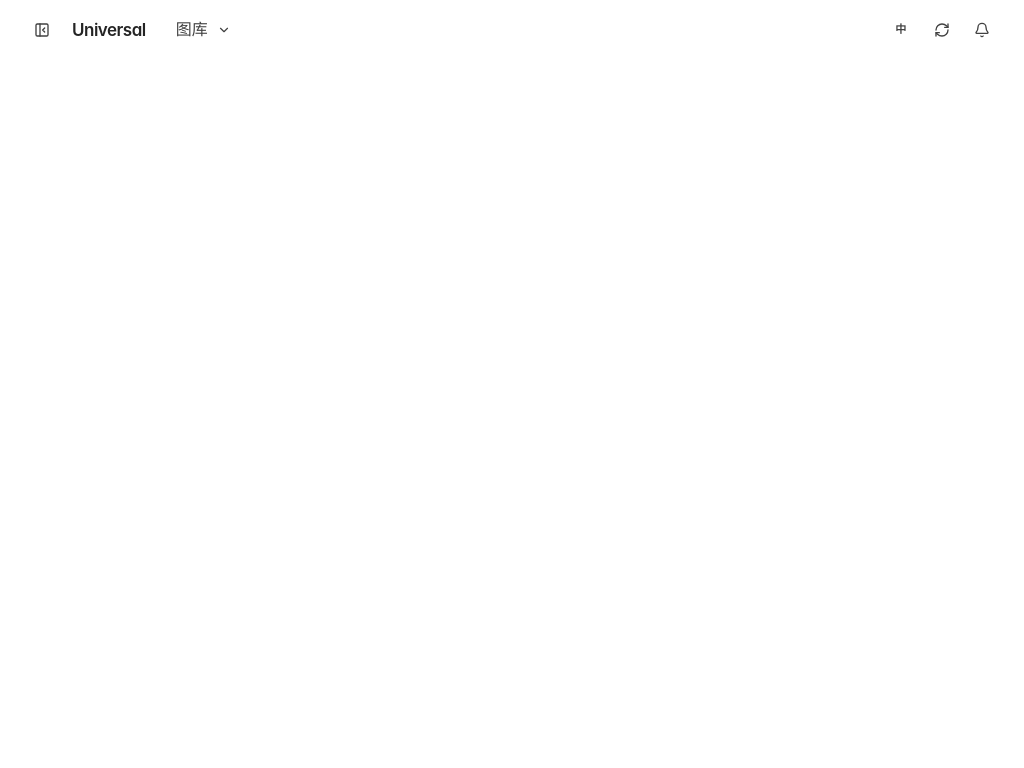
Scenario: TopNavigation › keeps the update popover open when the bell is clicked
Step 1. Click the button named "更新" → (982, 30), box [964,12,1000,48]
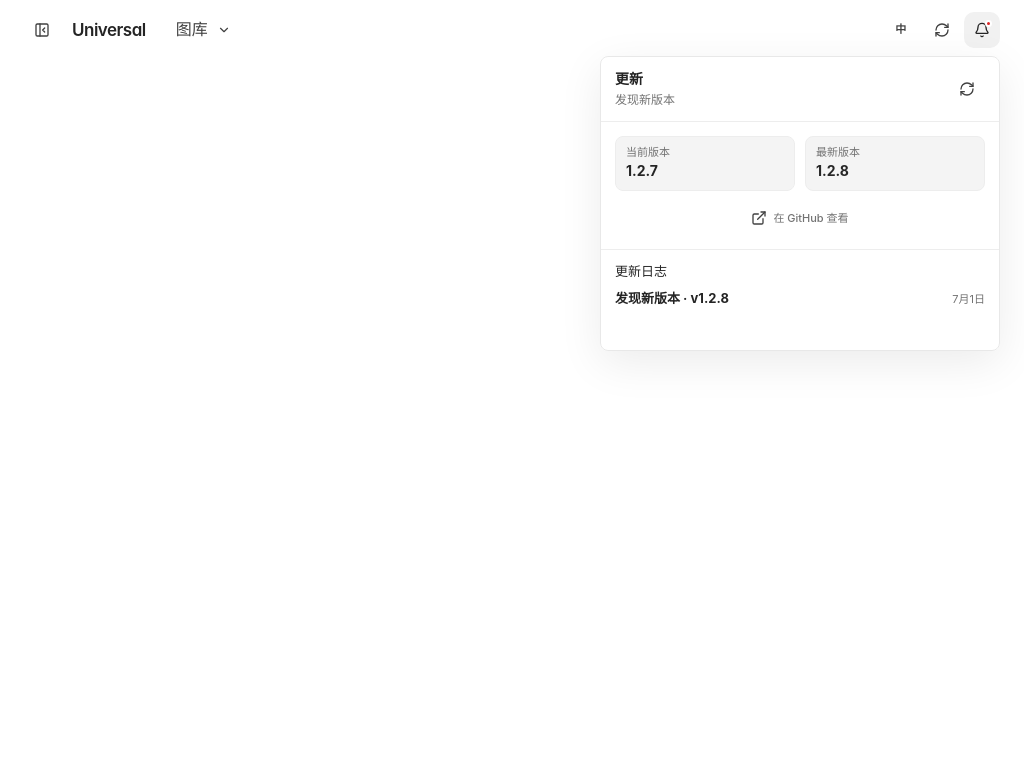
Now the element with class "ue-update-popover" is shown, box [600,56,1000,351]
Now the text "1.2.7" is shown, box [626,162,658,179]
Now the text "1.2.8" is shown, box [816,162,849,179]
Step 2. Click the element that starts with "Universal" → (512, 384), box [0,0,1023,767]
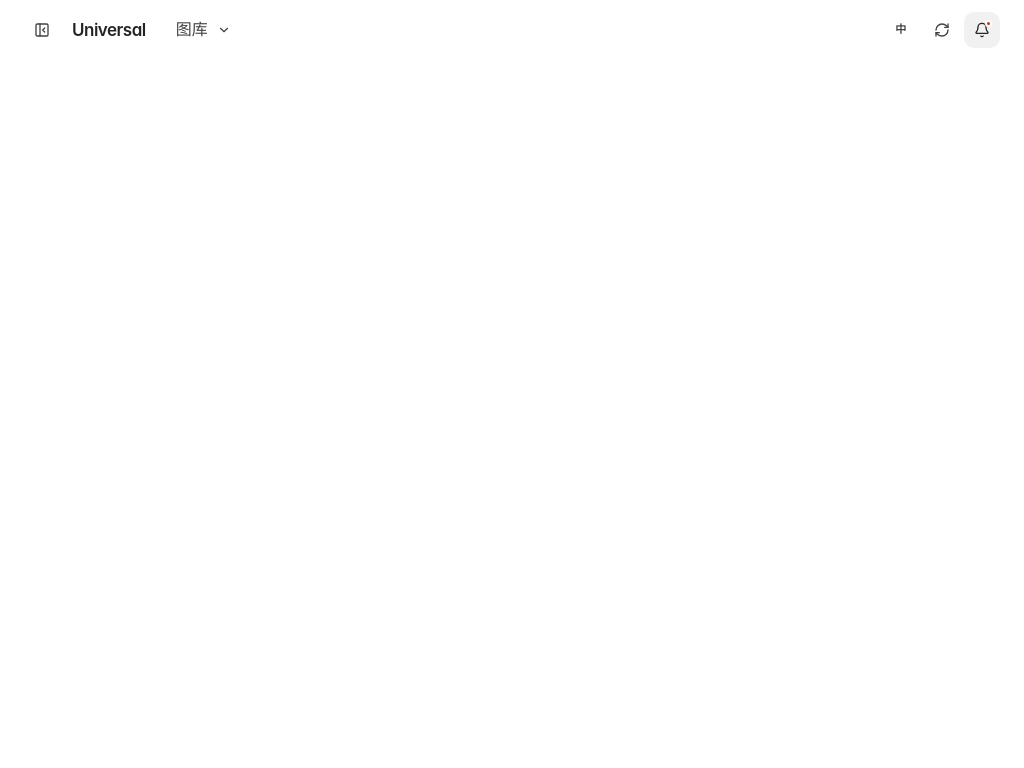
Now the element with class "ue-update-popover" is gone
